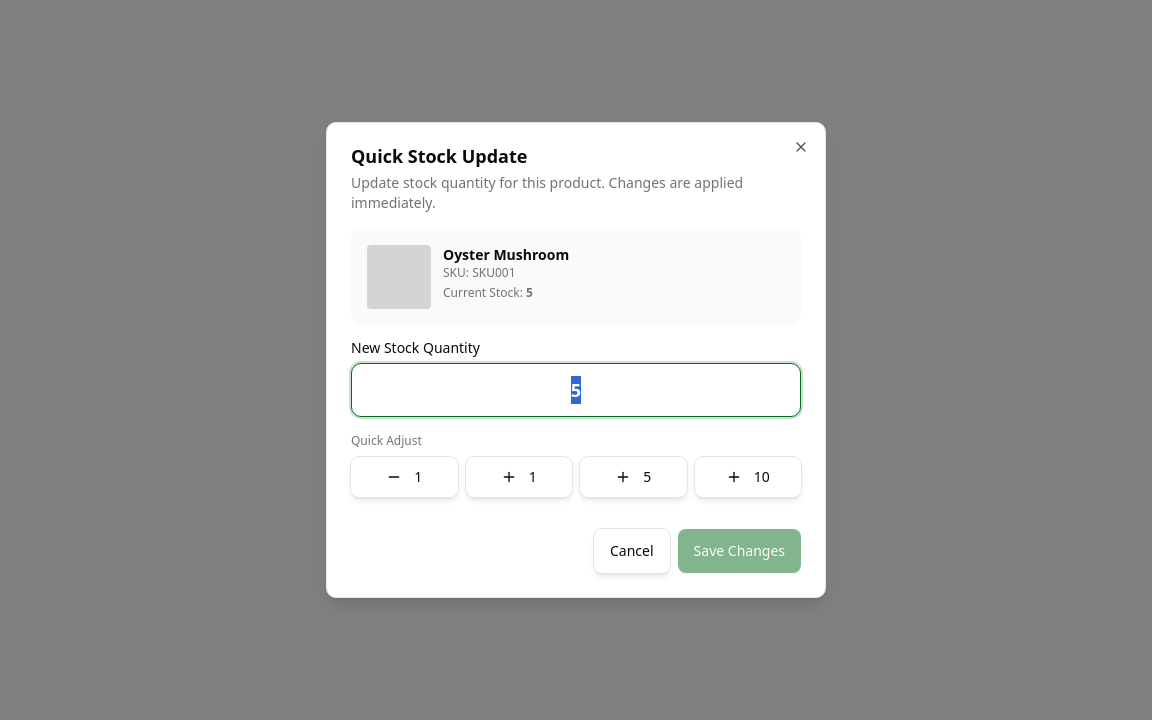
Test: QuickStockUpdate › Quick Adjust Buttons › should decrement stock by 1
Click the button named "Decrease by 1".
click(404, 477)  # box left=351, top=457, right=458, bottom=497
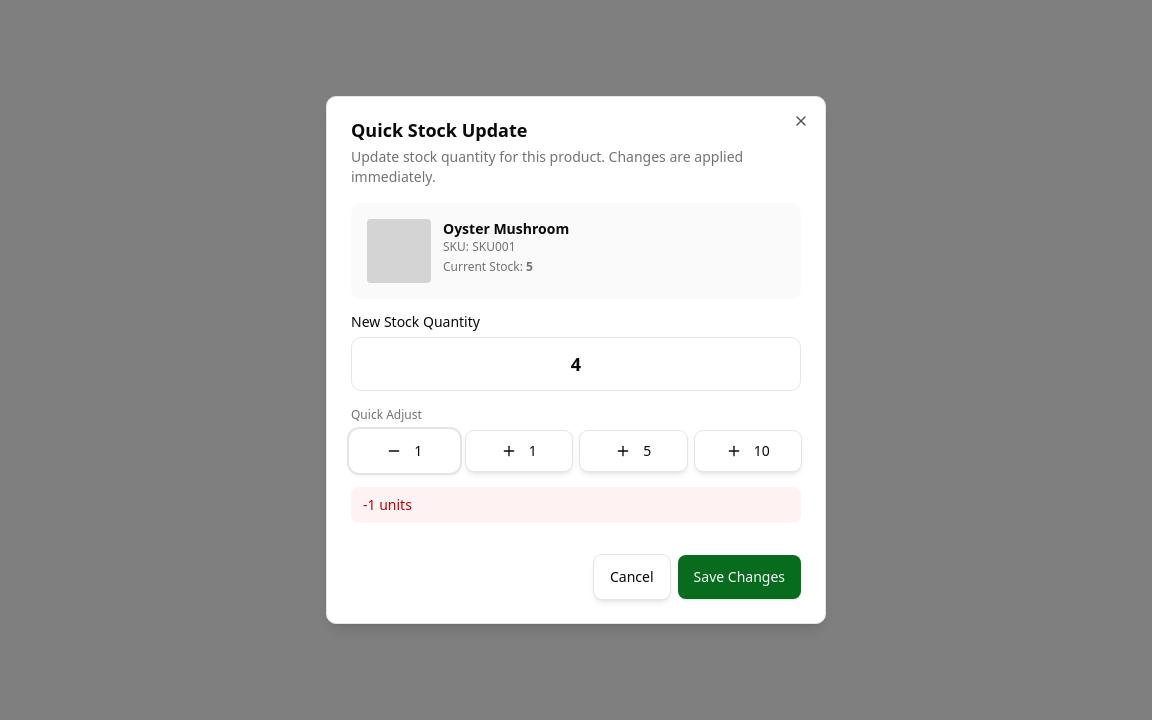
Expected: the field labelled "New Stock Quantity" holds "4", left=351, top=337, right=801, bottom=391
